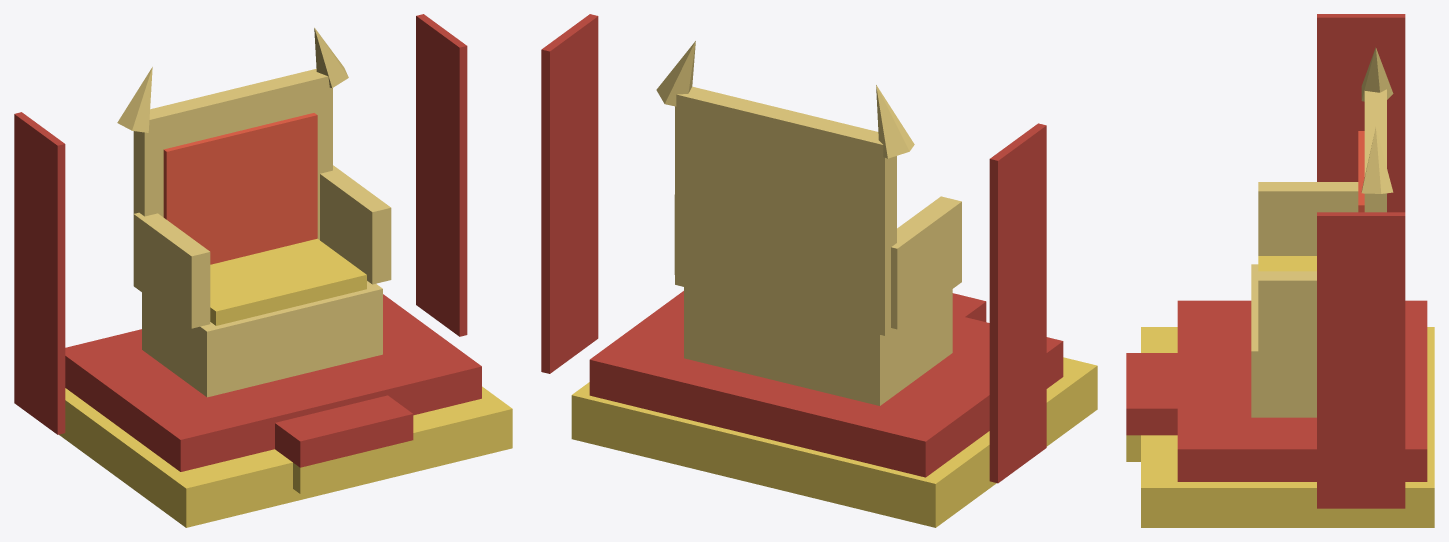
File: cn_throne.glb
3 renders of one model, left to right at view 1: azimuth 30°, elevation 25°; view 2: azimuth 150°, elevation 25°; view 3: azimuth 270°, elevation 25°, orthographic. The views are drawn at different scales.
Parts seen in each view (by area): view 1: cn_throne; view 2: cn_throne; view 3: cn_throne.
Boxes of the visible parts, box(x1,y1,x2,y2) form: cn_throne: box(14, 14, 512, 527); cn_throne: box(541, 14, 1097, 527); cn_throne: box(1126, 14, 1434, 527).
Bounding box in the file's own units: 3.26 × 2.71 × 2.1.
